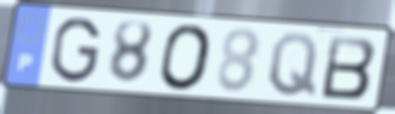8: (215, 25, 265, 97), (105, 19, 155, 88)
B: (319, 33, 379, 101)
G: (49, 15, 103, 85)
O: (158, 22, 215, 93)
Q: (266, 30, 320, 99)
